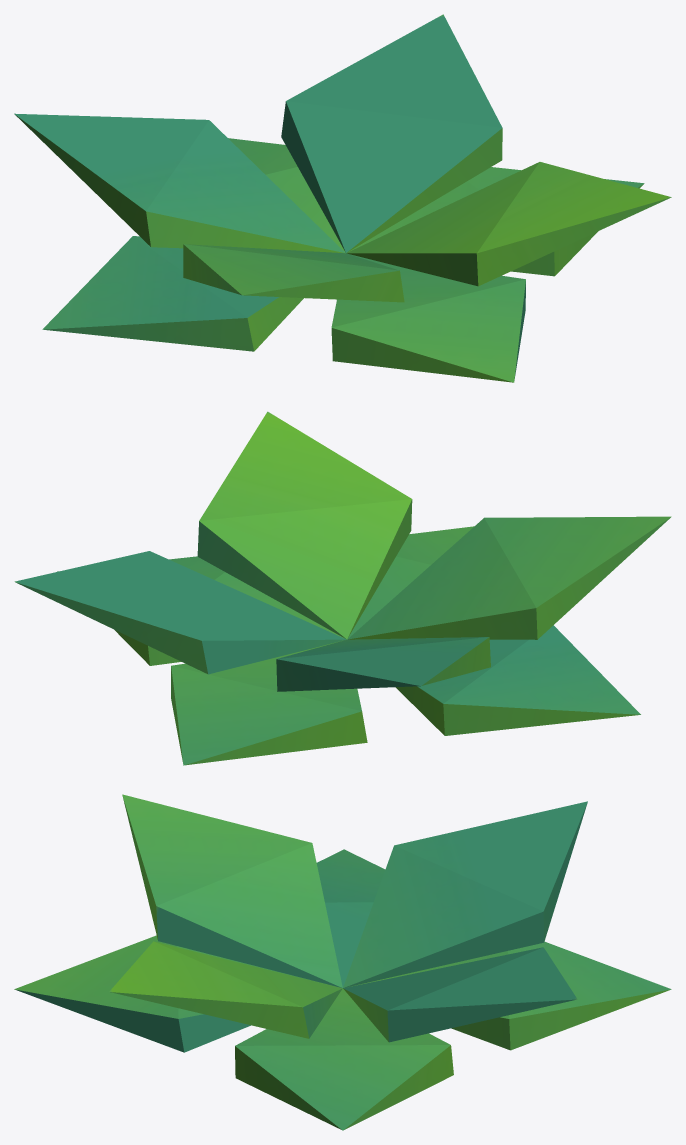
File: plant_small_2.gltf
3 views of the same model, one above another, from view 1: azimuth 30°, elevation 25°; view 2: azimuth 150°, elevation 25°; view 3: azimuth 270°, elevation 25° (orthographic). The views are drawn at different scales.
Parts seen in each view (by area): view 1: Cube; view 2: Cube; view 3: Cube.
Part boxes in pixels (x1,y1,x2,y2): Cube: (14, 14, 671, 382); Cube: (14, 411, 671, 765); Cube: (14, 794, 671, 1130).
Size of the model in its own units: 0.8962 by 0.1646 by 0.8858.
Materials: 1 (1 with a texture image).
